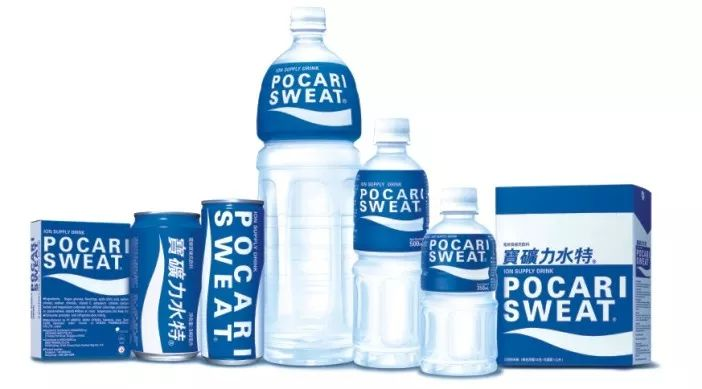POCARI SWEAT: (263, 6, 360, 368), (350, 110, 435, 367), (427, 189, 501, 377)
